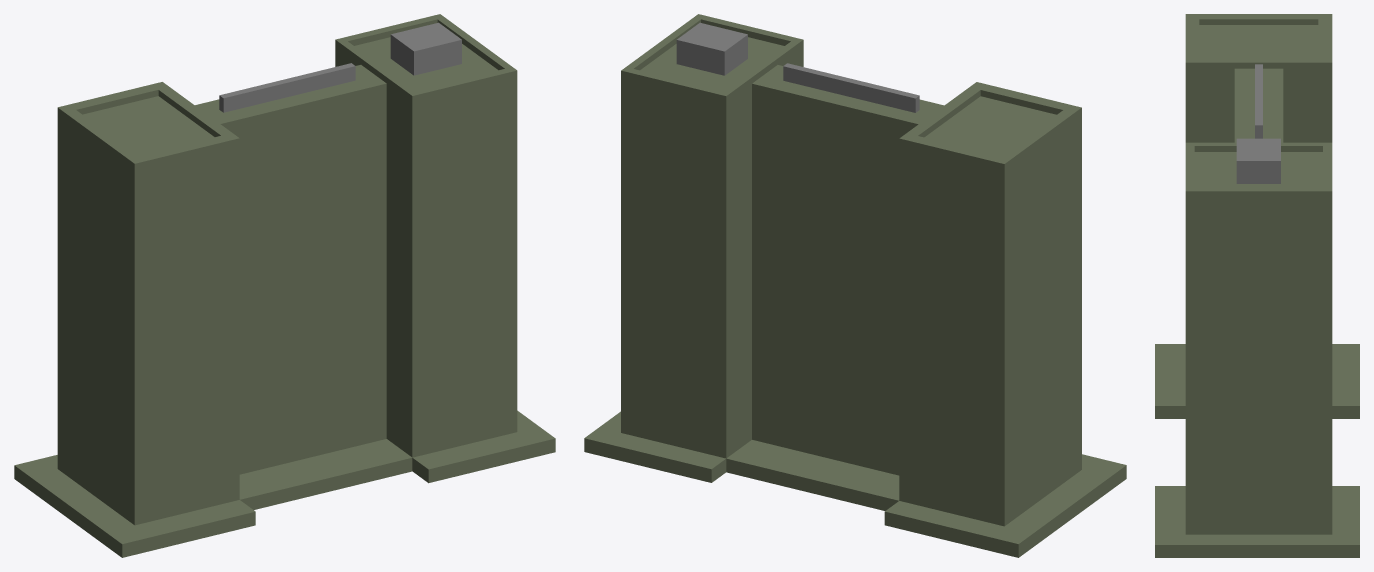
The model's file is Apartment_building2.fbx.
3 renders of one model, left to right at view 1: azimuth 30°, elevation 25°; view 2: azimuth 150°, elevation 25°; view 3: azimuth 270°, elevation 25°, orthographic. The views are drawn at different scales.
Visible parts, largest first — view 1: Apartment_building2; view 2: Apartment_building2; view 3: Apartment_building2.
Boxes of the visible parts, bbox=[...] form: Apartment_building2: bbox=[14, 14, 555, 557]; Apartment_building2: bbox=[584, 14, 1126, 557]; Apartment_building2: bbox=[1155, 14, 1359, 557].
Bounding box in the file's own units: 11970 × 10380 × 5159.
